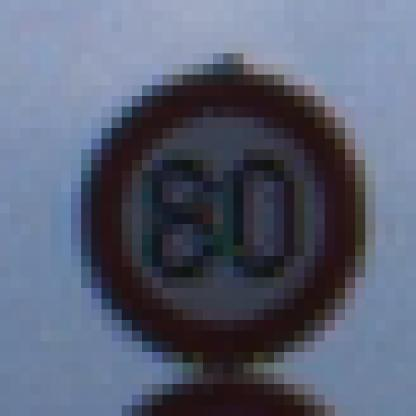Speed Limit -80-: (69, 19, 393, 387)
